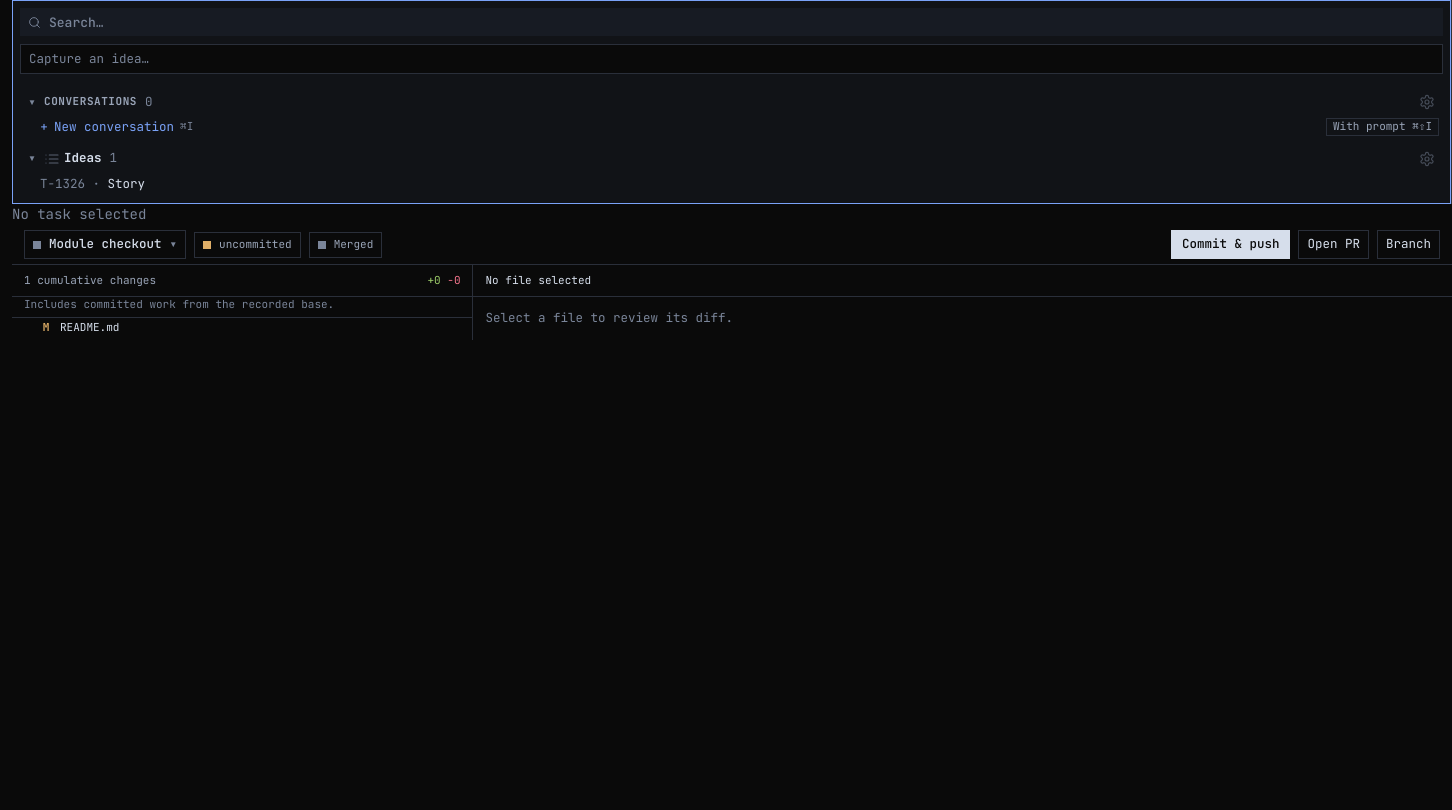
Test: overhaul acceptance - merged worktree cleanup › [overhaul-200] explains cleanup blocker checkout_dirty without offering removal
This screenshot has width=1452, height=810.
Step 1. Click the button "Branch" → (1408,245), box [1377,230,1440,259]
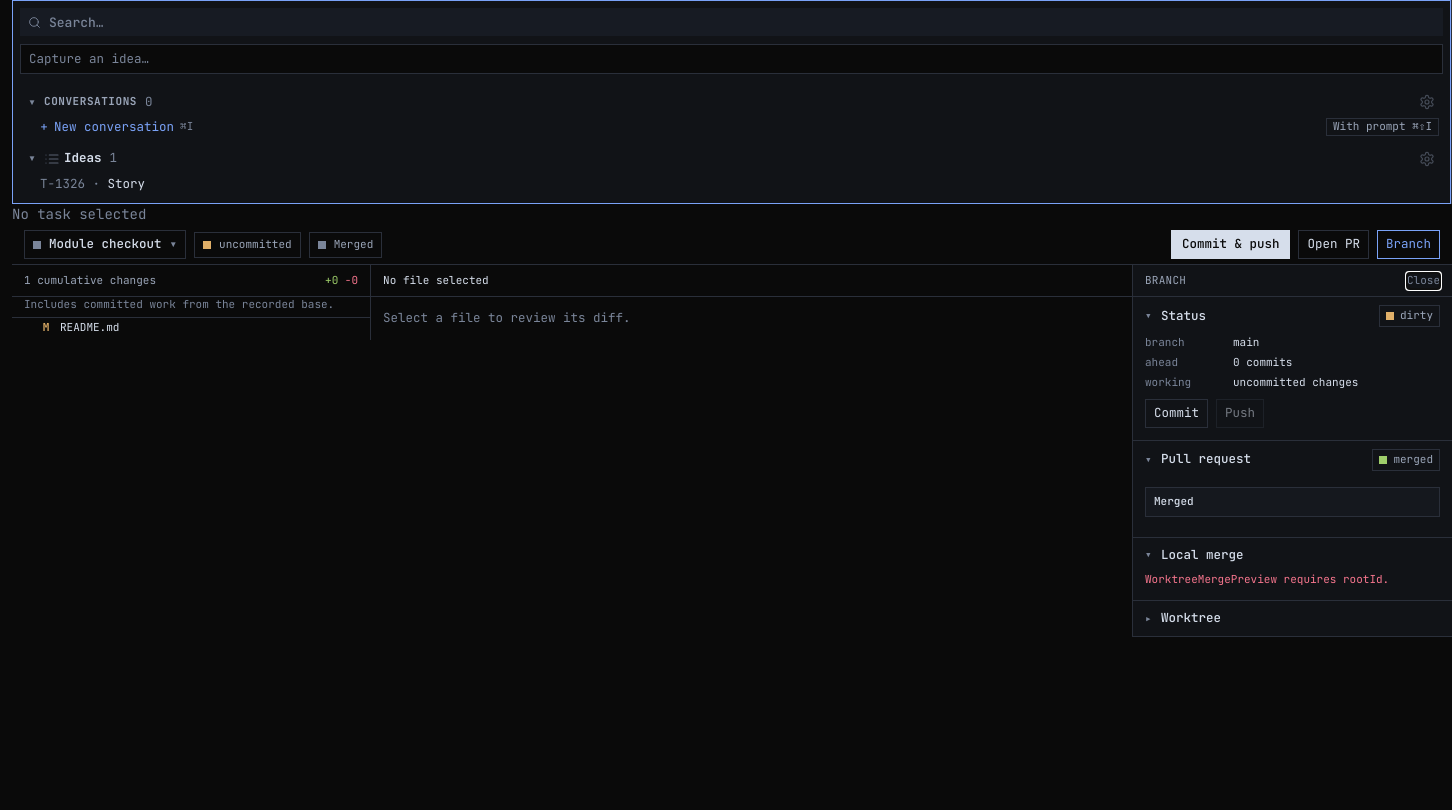
Expected: the element with test id "changes-branch-inspector" is shown, [1132,265,1451,637]
Step 2. Click the heading "▸ Worktree" → (1183,618), box [1145,609,1221,626]
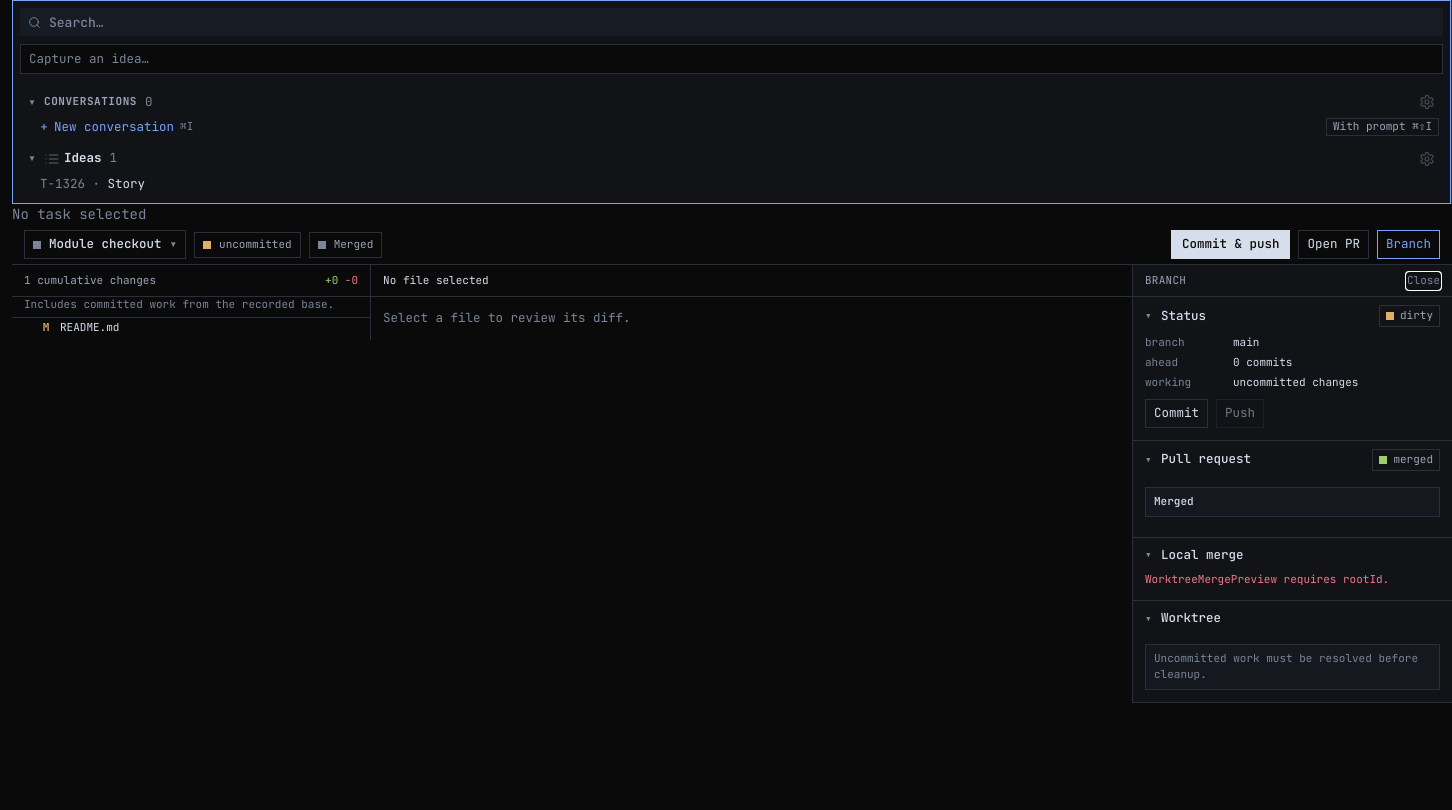
Expected: the list named "Cumulative changed files" shows "README.md", [12,318,370,338]
Expected: the text named "Worktree cleanup status" reads "Uncommitted work must be resolved before cleanup.", [1154,651,1418,681]
